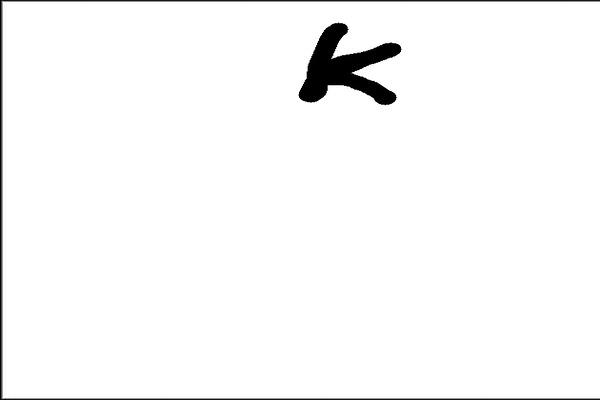K: (292, 17, 405, 110)
